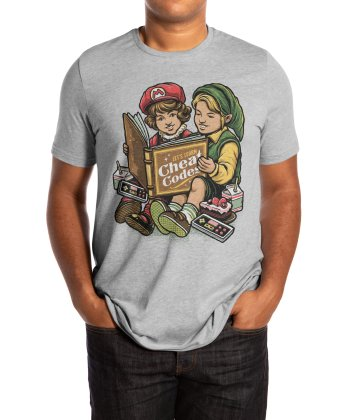design: (109, 78, 249, 246)
